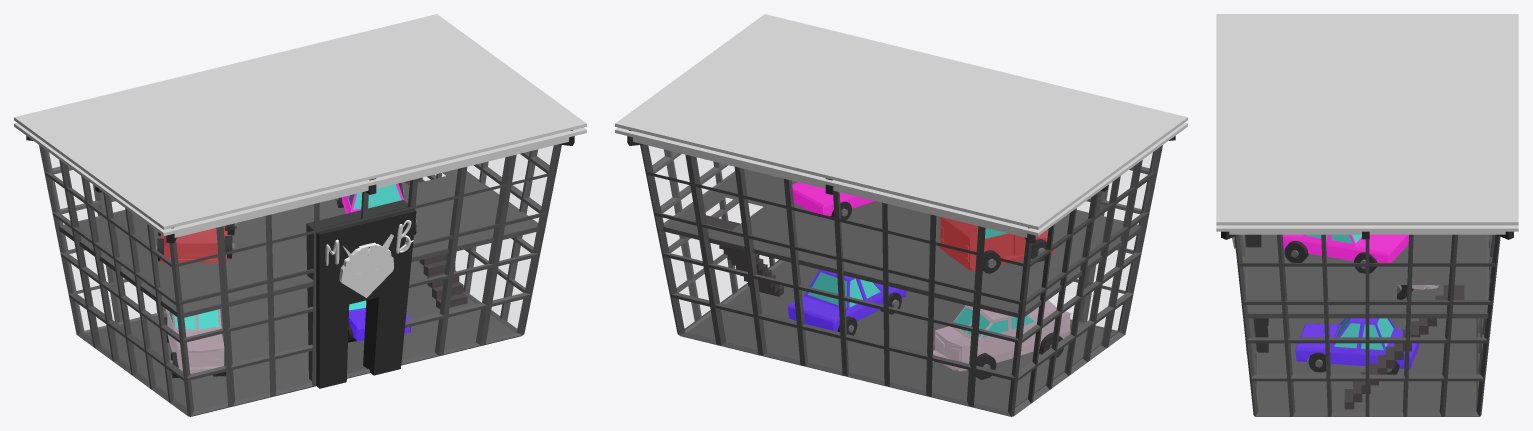
3 views of the same model, side by side, from view 1: azimuth 30°, elevation 25°; view 2: azimuth 150°, elevation 25°; view 3: azimuth 270°, elevation 25° (orthographic).
Visible parts, largest first — view 1: Cube.005, Cube, Cube.010, Cube.006, Cube.007, Cube.001, Cube.011, Cube.012, BoodyCar.002, Cube.016, BoodyCar; view 2: Cube.005, Cube, Cube.010, Cube.011, Cube.012, BoodyCar, Cube.001, BoodyCar.001, BoodyCar.008, Cube.016; view 3: Cube.005, Cube, Cube.010, BoodyCar, BoodyCar.001, Cube.001, BoodyCar.008, Cube.006, Cylinder.019.
Boxes of the visible parts, x1,y1,x2,y2 form: Cube.005: (14, 14, 586, 235); Cube: (39, 144, 561, 416); Cube.010: (59, 169, 538, 317); Cube.006: (306, 200, 416, 388); Cube.007: (339, 234, 393, 297); Cube.001: (174, 137, 568, 237); Cube.011: (165, 309, 224, 373); Cube.012: (160, 226, 227, 262); BoodyCar.002: (353, 184, 401, 209); Cube.016: (169, 309, 219, 329); BoodyCar: (348, 308, 410, 341); Cube.005: (615, 14, 1187, 235); Cube: (640, 144, 1162, 416); Cube.010: (663, 169, 1142, 317); Cube.011: (932, 300, 1071, 371); Cube.012: (939, 217, 1055, 271); BoodyCar: (787, 269, 906, 331); Cube.001: (633, 137, 1027, 237); BoodyCar.001: (792, 182, 874, 218); BoodyCar.008: (808, 272, 880, 307); Cube.016: (954, 307, 1034, 337); Cube.005: (1216, 14, 1518, 231); Cube: (1234, 234, 1500, 416); Cube.010: (1245, 234, 1489, 318); BoodyCar: (1295, 318, 1420, 369); BoodyCar.001: (1282, 234, 1408, 262); Cube.001: (1229, 231, 1505, 234); BoodyCar.008: (1334, 318, 1393, 350); Cube.006: (1245, 234, 1268, 353); Cylinder.019: (1284, 241, 1308, 262).
Bounding box in the file's own units: 567 × 276 × 347.
